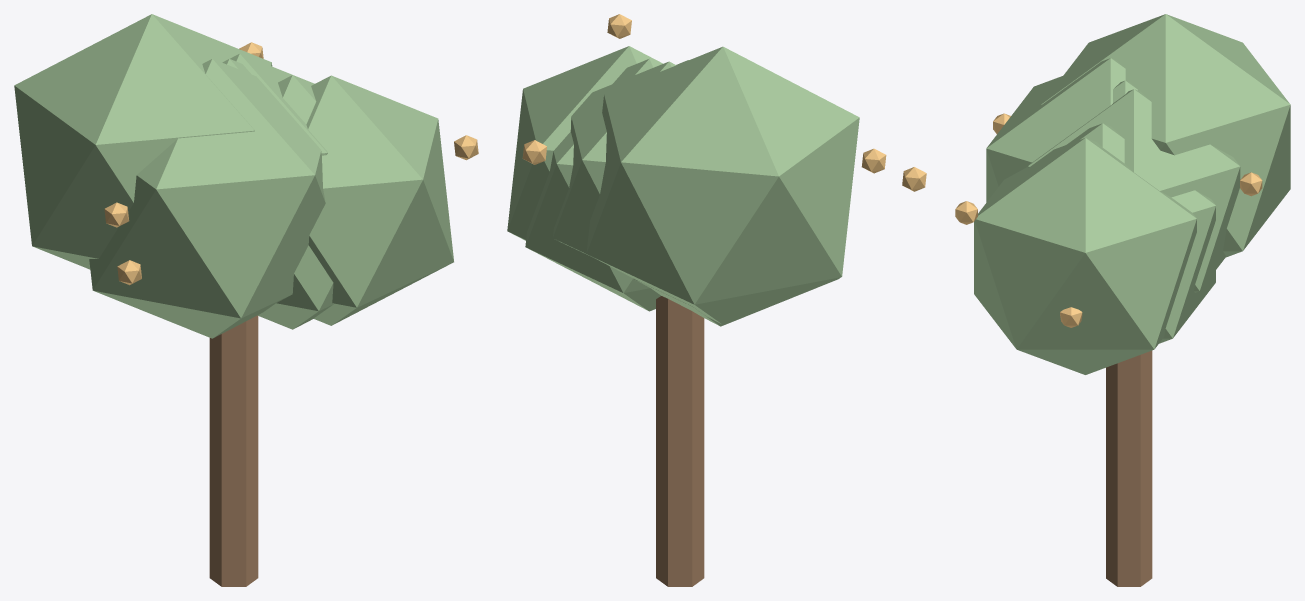
File: cajueiro.glb
3 views of the same model, side by side, from view 1: azimuth 30°, elevation 25°; view 2: azimuth 150°, elevation 25°; view 3: azimuth 270°, elevation 25° (orthographic). The views are drawn at different scales.
Parts seen in each view (by area): view 1: Cajueiro; view 2: Cajueiro; view 3: Cajueiro.
Part boxes in pixels (box(x1,y1,x2,y2)): Cajueiro: box(14, 14, 478, 586); Cajueiro: box(507, 14, 926, 586); Cajueiro: box(955, 14, 1290, 586).
Size of the model in its own units: 2.41 by 3.58 by 2.03.
